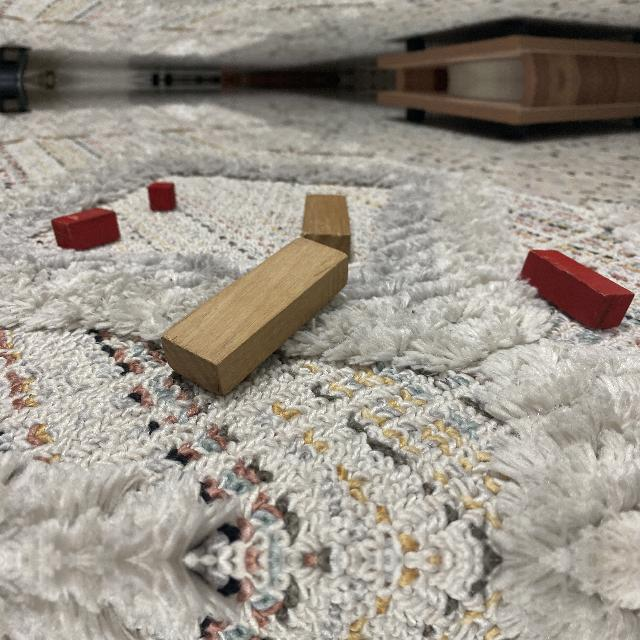jenga: (160, 237, 348, 397), (301, 194, 351, 264)
red block: (519, 250, 635, 328), (49, 206, 122, 250)
red cube: (148, 181, 176, 213)
